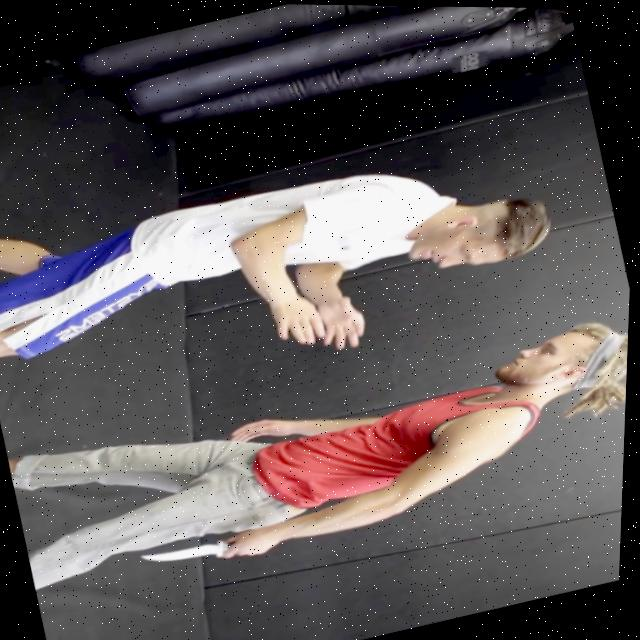knife: (143, 530, 244, 575)
